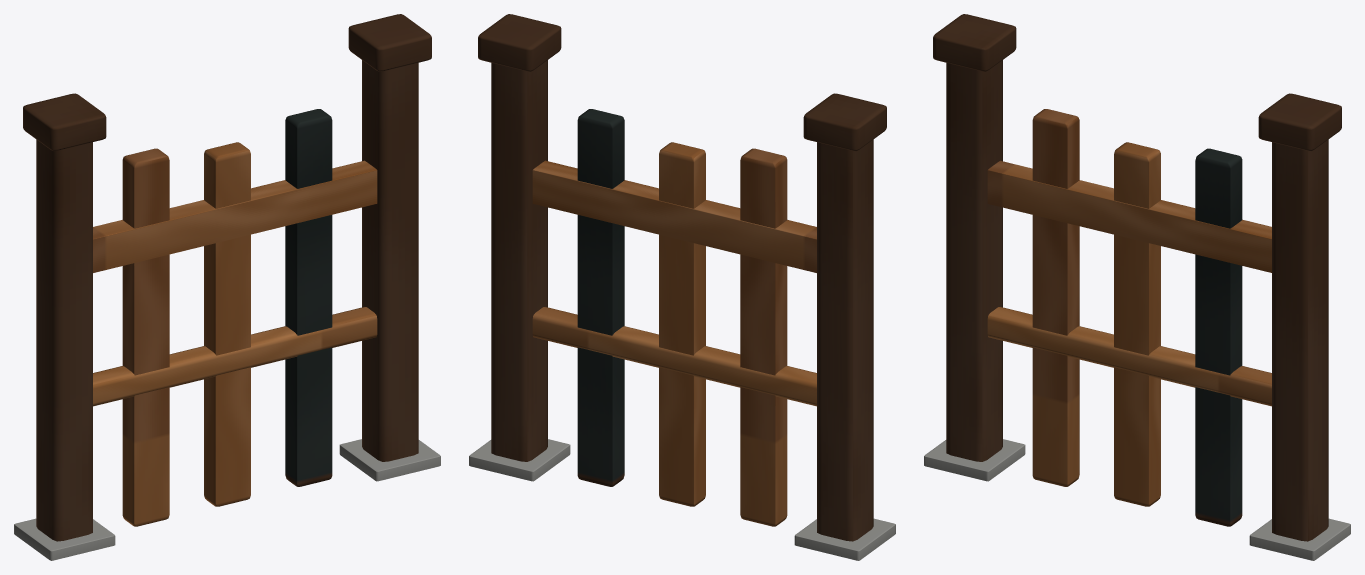
The model's file is fence_straight_1m.glb.
3 renders of one model, left to right at view 1: azimuth 30°, elevation 25°; view 2: azimuth 150°, elevation 25°; view 3: azimuth 330°, elevation 25°, orthographic.
Visible parts, largest first — view 1: Posts_Post, Posts_Post.001, Pickets_Picket, Pickets_Picket.002, Pickets_Picket.001, Rails_Rail.001, Rails_Rail, Posts_Cap, Posts_Cap.001, Posts_Footing.001, Posts_Footing; view 2: Posts_Post, Posts_Post.001, Pickets_Picket, Pickets_Picket.002, Pickets_Picket.001, Rails_Rail.001, Rails_Rail, Posts_Cap, Posts_Cap.001, Posts_Footing.001, Posts_Footing; view 3: Posts_Post.001, Posts_Post, Pickets_Picket.002, Pickets_Picket, Pickets_Picket.001, Rails_Rail.001, Rails_Rail, Posts_Cap, Posts_Cap.001, Posts_Footing, Posts_Footing.001.
Boxes of the visible parts, x1,y1,x2,y2 form: Posts_Post: [36, 139, 92, 541]; Posts_Post.001: [362, 60, 418, 461]; Pickets_Picket: [122, 148, 169, 526]; Pickets_Picket.002: [285, 109, 332, 486]; Pickets_Picket.001: [204, 142, 250, 506]; Rails_Rail.001: [93, 160, 377, 272]; Rails_Rail: [93, 307, 377, 406]; Posts_Cap: [23, 93, 106, 150]; Posts_Cap.001: [348, 14, 431, 71]; Posts_Footing.001: [339, 439, 440, 481]; Posts_Footing: [14, 518, 115, 560]; Posts_Post: [817, 139, 873, 541]; Posts_Post.001: [491, 60, 547, 461]; Pickets_Picket: [740, 148, 787, 526]; Pickets_Picket.002: [577, 109, 624, 486]; Pickets_Picket.001: [659, 142, 705, 506]; Rails_Rail.001: [532, 160, 816, 272]; Rails_Rail: [532, 307, 816, 406]; Posts_Cap: [803, 93, 886, 151]; Posts_Cap.001: [478, 14, 561, 71]; Posts_Footing.001: [469, 439, 570, 481]; Posts_Footing: [794, 518, 895, 560]; Posts_Post.001: [1272, 139, 1328, 541]; Posts_Post: [946, 60, 1002, 461]; Pickets_Picket.002: [1195, 148, 1242, 526]; Pickets_Picket: [1032, 109, 1079, 486]; Pickets_Picket.001: [1114, 142, 1160, 506]; Rails_Rail.001: [987, 160, 1271, 272]; Rails_Rail: [987, 307, 1271, 406]; Posts_Cap: [933, 14, 1016, 71]; Posts_Cap.001: [1258, 93, 1341, 150]; Posts_Footing: [924, 439, 1025, 481]; Posts_Footing.001: [1249, 518, 1350, 560].
Bounding box in the file's own units: 1.2 × 1.26 × 0.2.
Materials: 3 (3 with a texture image).
